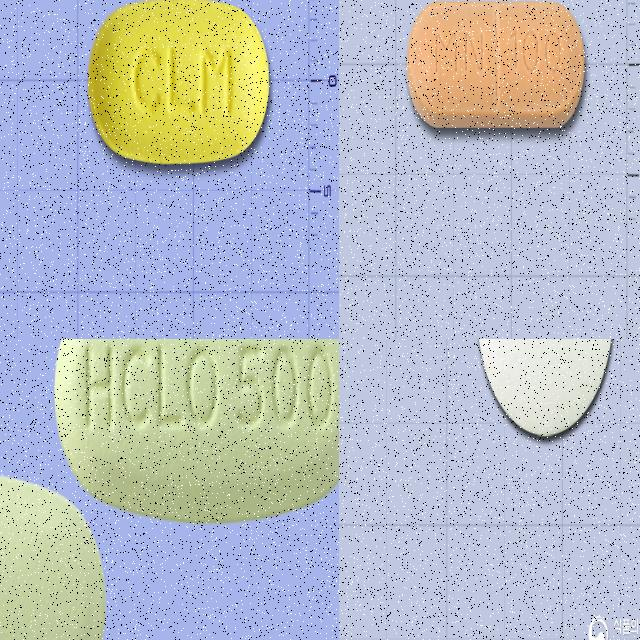Hericlo: (53, 339, 339, 526), (0, 467, 109, 640)
Kipocin: (477, 339, 615, 439)
Monocin: (408, 2, 586, 130)
Rulid Tab: (86, 0, 270, 164)
